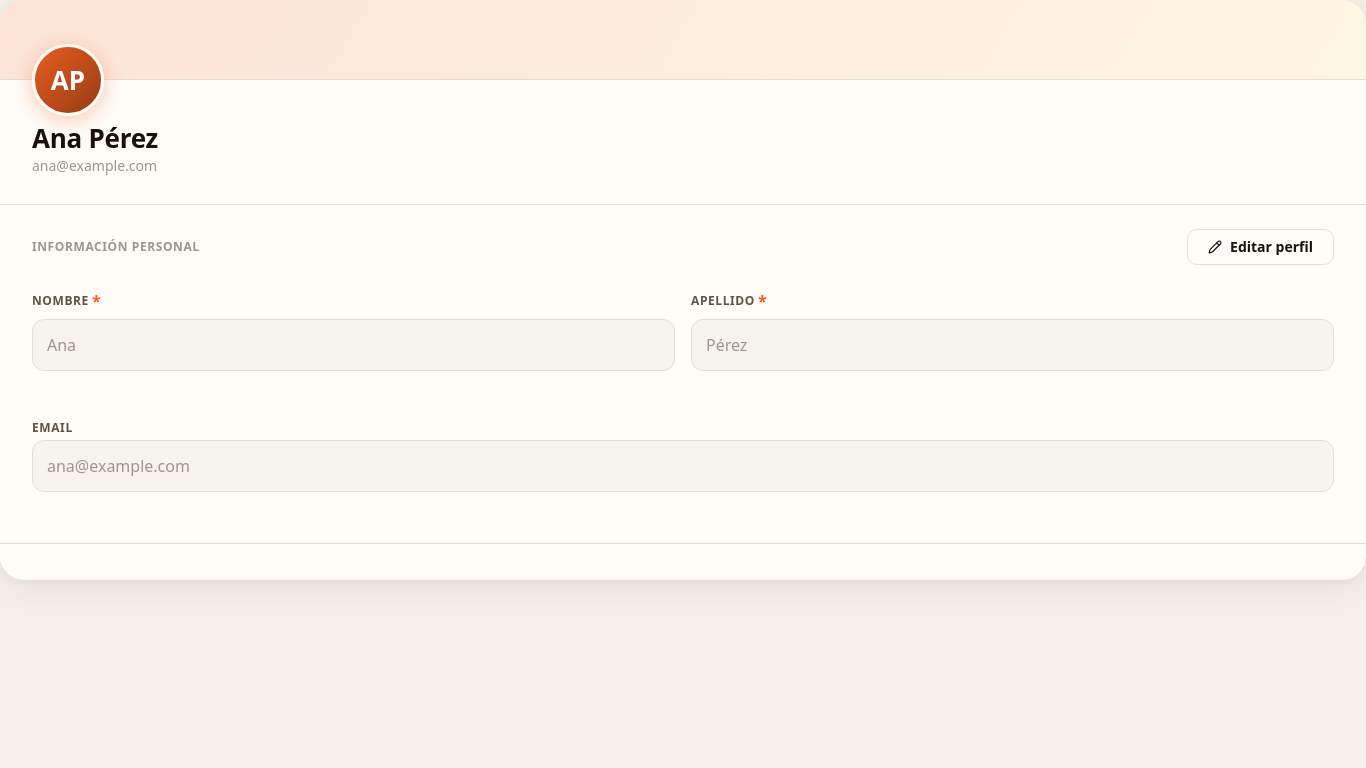
it: ProfileForm › starts read-only, with the fields enabled only after Editar perfil
This screenshot has width=1366, height=768.
Expected: the field labelled "Nombre" is disabled, [32,319,675,371]
Expected: the button "Guardar cambios" is not shown
Click the button "Editar perfil": x=1260, y=247 [1187,229,1334,265]
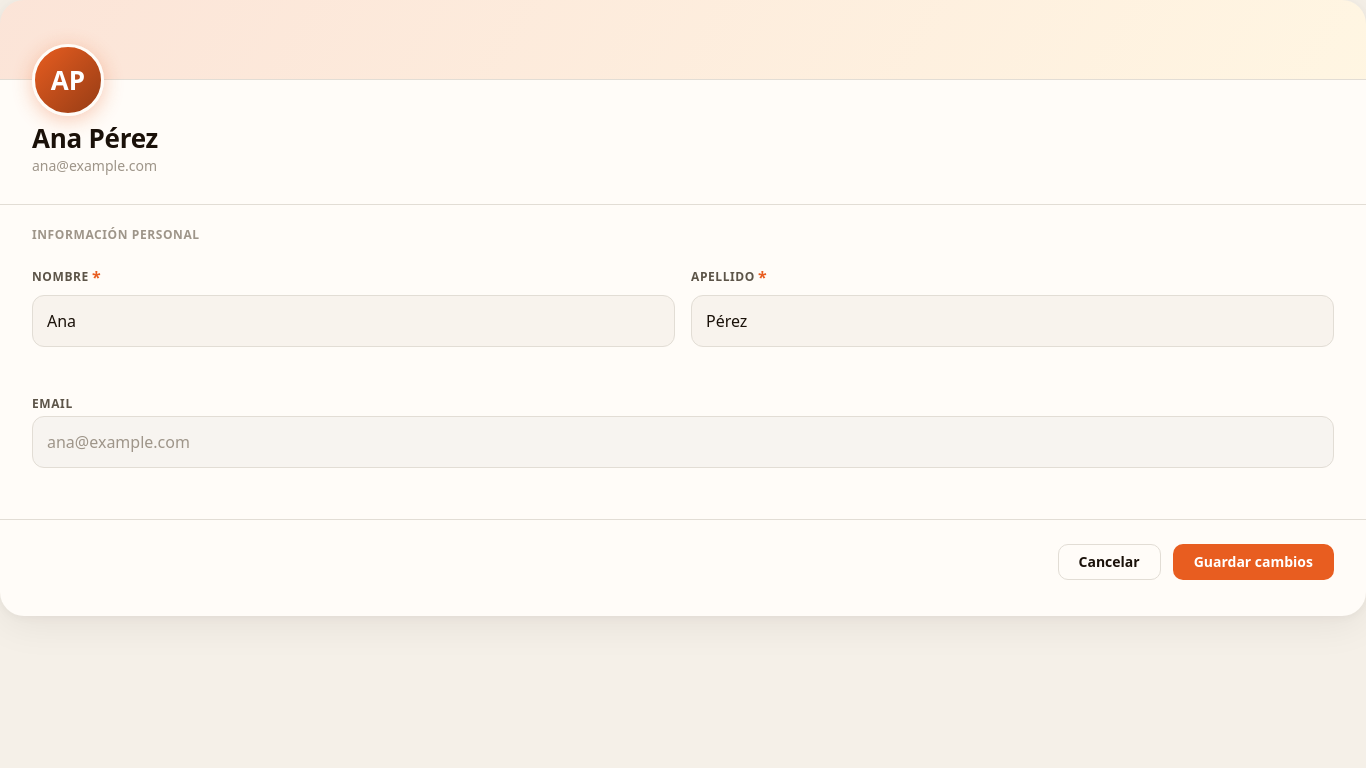
Result: the field labelled "Nombre" is enabled at [32,295,675,347]
Result: the button "Guardar cambios" is shown at [1173,544,1334,580]
